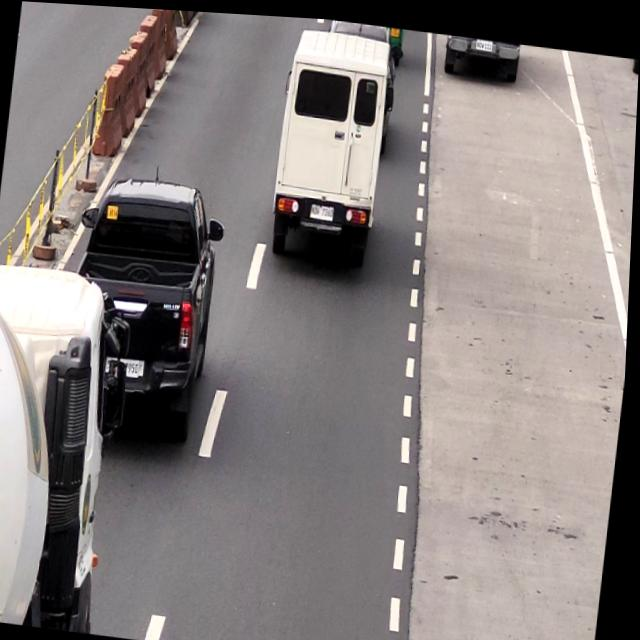Car: (73, 167, 236, 447), (270, 25, 394, 266), (441, 28, 525, 81)
License-Plate: (119, 355, 146, 376), (310, 201, 337, 220), (474, 32, 494, 46)
Truck: (0, 265, 116, 631)
